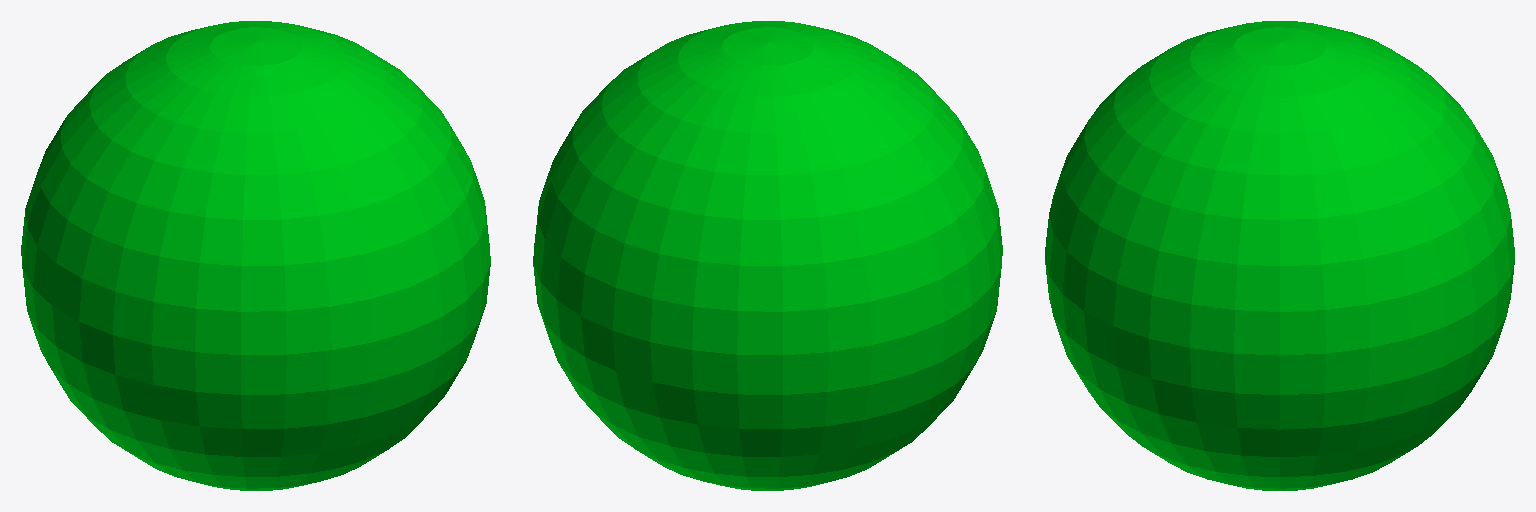
Rendered from sphere_green.obj.
3 renders of one model, left to right at view 1: azimuth 30°, elevation 25°; view 2: azimuth 150°, elevation 25°; view 3: azimuth 270°, elevation 25°, orthographic.
Parts seen in each view (by area): view 1: Sphere; view 2: Sphere; view 3: Sphere.
Boxes of the visible parts, <box> form: Sphere: <box>21,21,490,490</box>; Sphere: <box>533,21,1002,490</box>; Sphere: <box>1045,21,1514,490</box>.
Bounding box in the file's own units: 2 × 2 × 2.